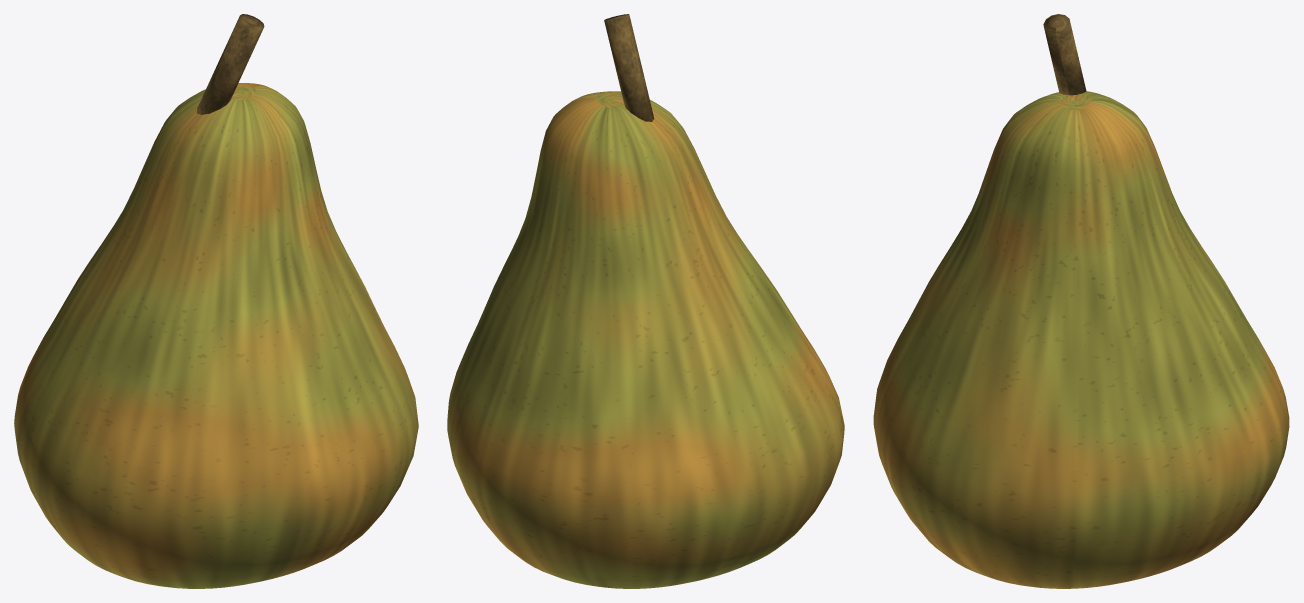
Rendered from pear.glb.
3 renders of one model, left to right at view 1: azimuth 30°, elevation 25°; view 2: azimuth 150°, elevation 25°; view 3: azimuth 270°, elevation 25°, orthographic. The views are drawn at different scales.
Visible parts, largest first — view 1: pear, dry; view 2: pear, dry; view 3: pear, dry.
Boxes of the visible parts, x1=… form: pear: x1=14, y1=83, x2=418, y2=588; dry: x1=197, y1=14, x2=264, y2=114; pear: x1=447, y1=91, x2=844, y2=588; dry: x1=604, y1=14, x2=654, y2=121; pear: x1=873, y1=91, x2=1289, y2=588; dry: x1=1043, y1=14, x2=1086, y2=95.
Size of the model in its own units: 0.0904 by 0.1311 by 0.0901.
2 materials, 2 textured.
